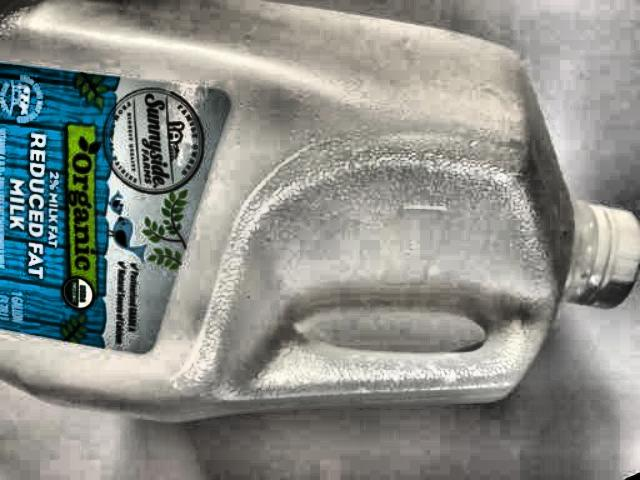Plastic: (0, 0, 640, 419)
